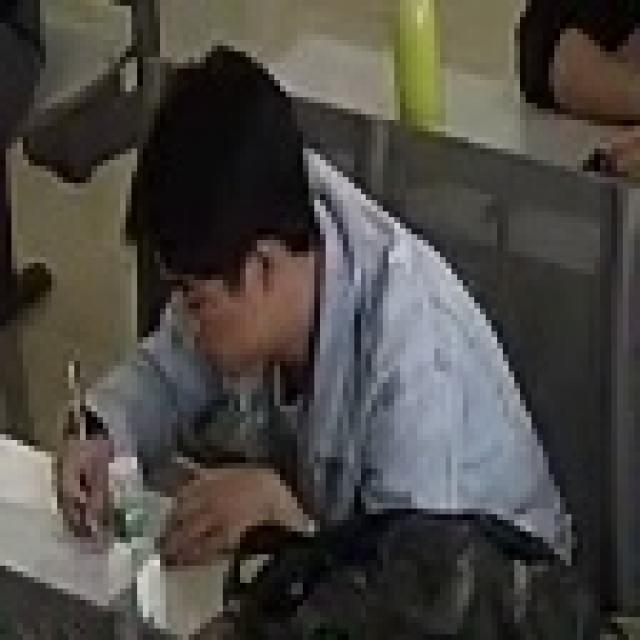write: (51, 39, 576, 578)
